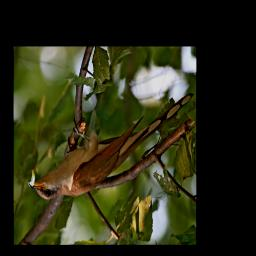Cuckoo: (25, 92, 195, 201)
